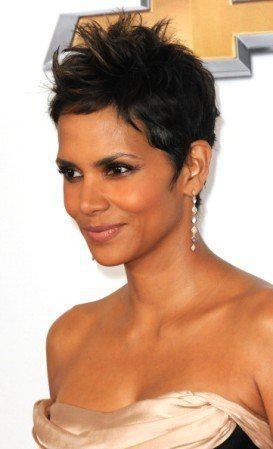Sober: (55, 111, 169, 257)
